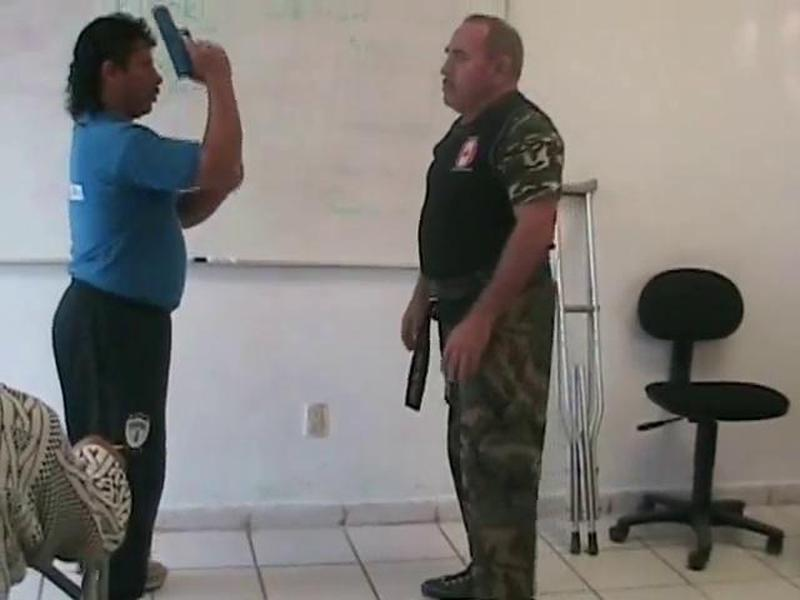Pistola: (148, 1, 206, 85)
